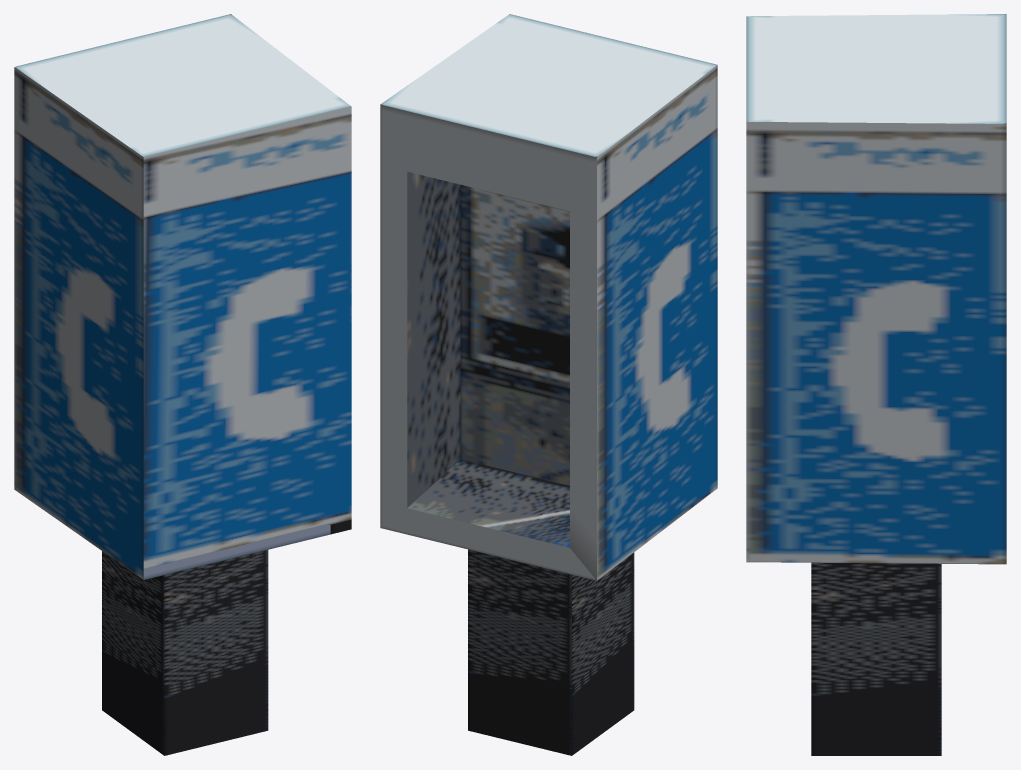
The model's file is CityPhoneboot.fbx.
3 views of the same model, side by side, from view 1: azimuth 30°, elevation 25°; view 2: azimuth 150°, elevation 25°; view 3: azimuth 270°, elevation 25° (orthographic). The views are drawn at different scales.
Parts seen in each view (by area): view 1: mesh; view 2: mesh; view 3: mesh.
Part boxes in pixels (left/top/right/bottom): mesh: left=14, top=14, right=351, bottom=755; mesh: left=380, top=14, right=717, bottom=755; mesh: left=746, top=14, right=1006, bottom=755.
Bounding box in the file's own units: 31.25 × 87.5 × 31.25.
1 material, 1 textured.
